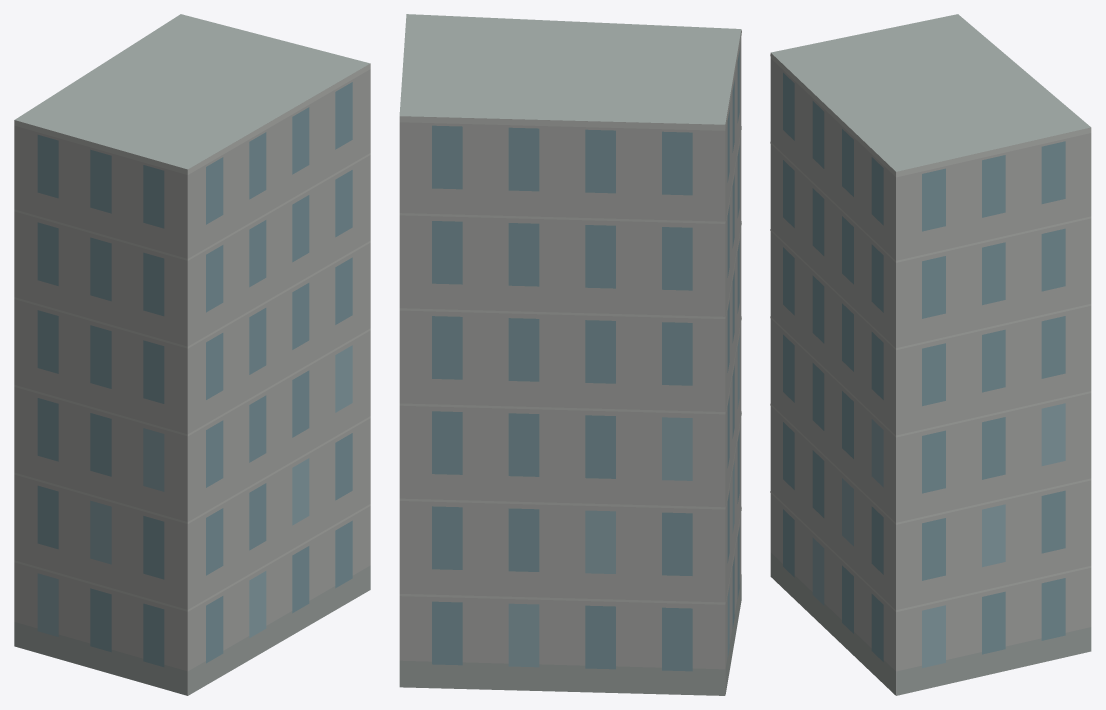
File: survey-upis-32931454.glb
The picture shows the model from 3 angles, left to right: view 1: azimuth 30°, elevation 25°; view 2: azimuth 150°, elevation 25°; view 3: azimuth 270°, elevation 25°; orthographic projection. The views are drawn at different scales.
Visible parts, largest first — view 1: survey-upis-32931454.tmp; view 2: survey-upis-32931454.tmp; view 3: survey-upis-32931454.tmp.
Part boxes in pixels (x1,y1,x2,y2): survey-upis-32931454.tmp: [14, 14, 370, 695]; survey-upis-32931454.tmp: [399, 14, 741, 695]; survey-upis-32931454.tmp: [770, 14, 1091, 695].
Bounding box in the file's own units: 14.82 × 22.9 × 12.73.
